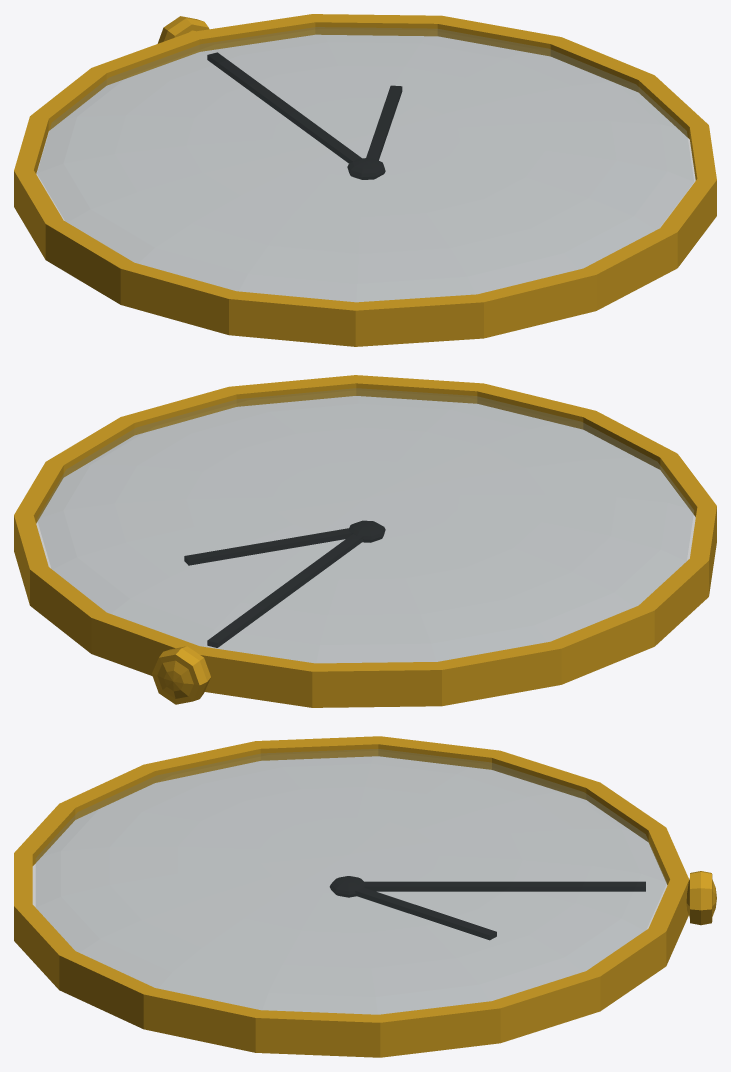
Rendered from goldwatch.fbx.
The picture shows the model from 3 angles, top to bottom: view 1: azimuth 30°, elevation 25°; view 2: azimuth 150°, elevation 25°; view 3: azimuth 270°, elevation 25°; orthographic projection. The views are drawn at different scales.
Parts seen in each view (by area): view 1: watch; view 2: watch; view 3: watch.
Part boxes in pixels (bbox=[...]): watch: bbox=[14, 14, 716, 346]; watch: bbox=[14, 375, 716, 707]; watch: bbox=[14, 736, 716, 1057].
Bounding box in the file's own units: 253 × 28.19 × 262.
